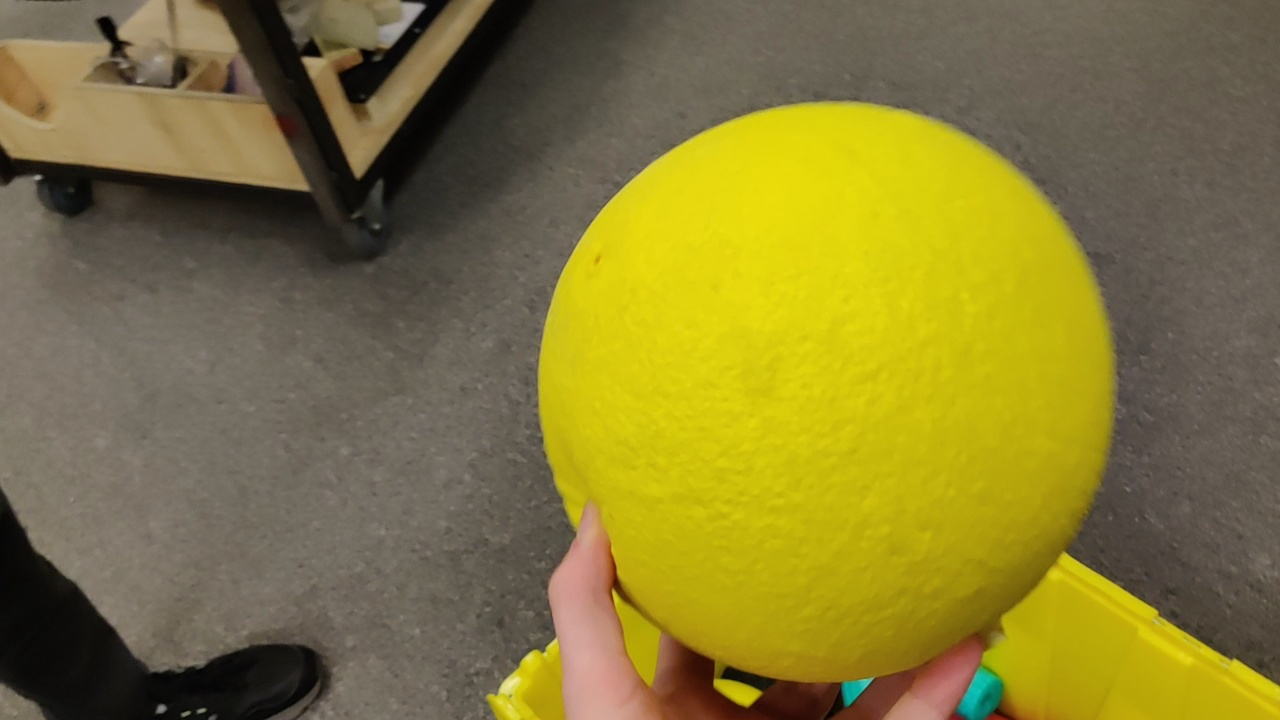Ball: (540, 102, 1121, 687)
